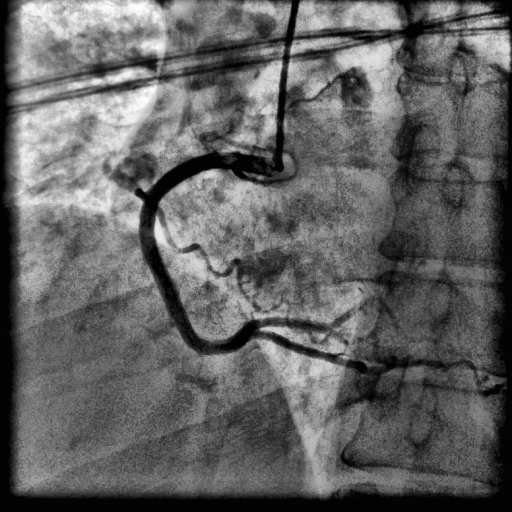pborca: (253, 306, 355, 331)
pda: (254, 330, 471, 376)
rca: (140, 152, 259, 356)
